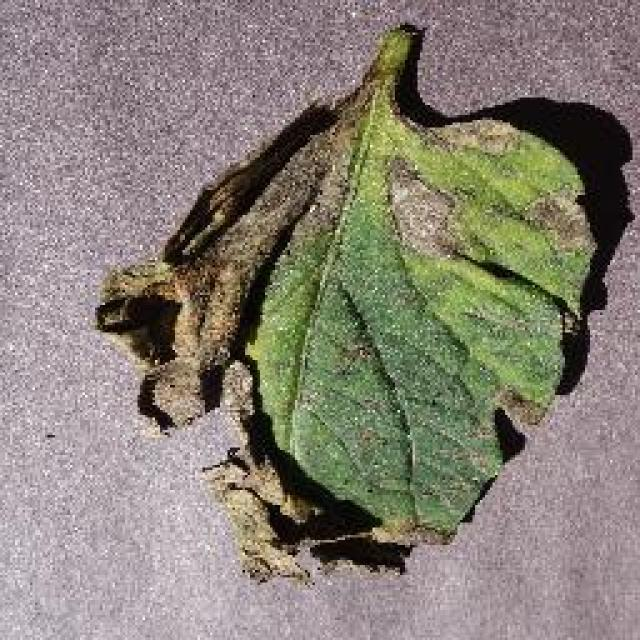Tomato___Early_blight: (93, 25, 605, 591)
